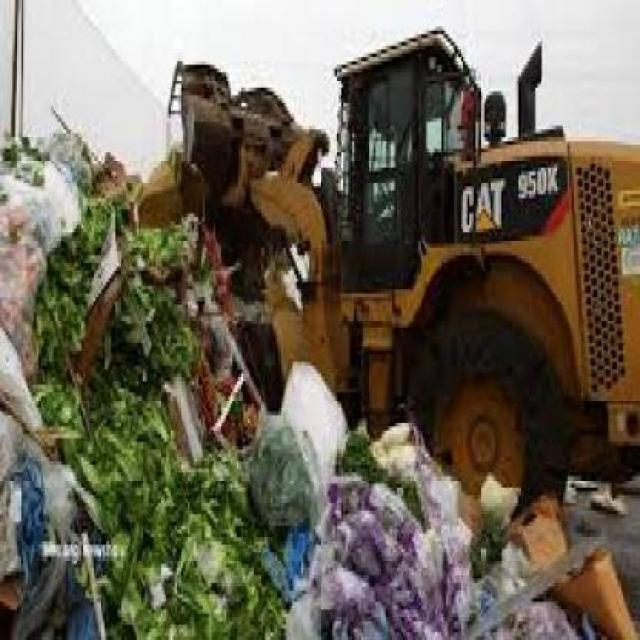garbage: (0, 134, 241, 637), (206, 362, 501, 636)
